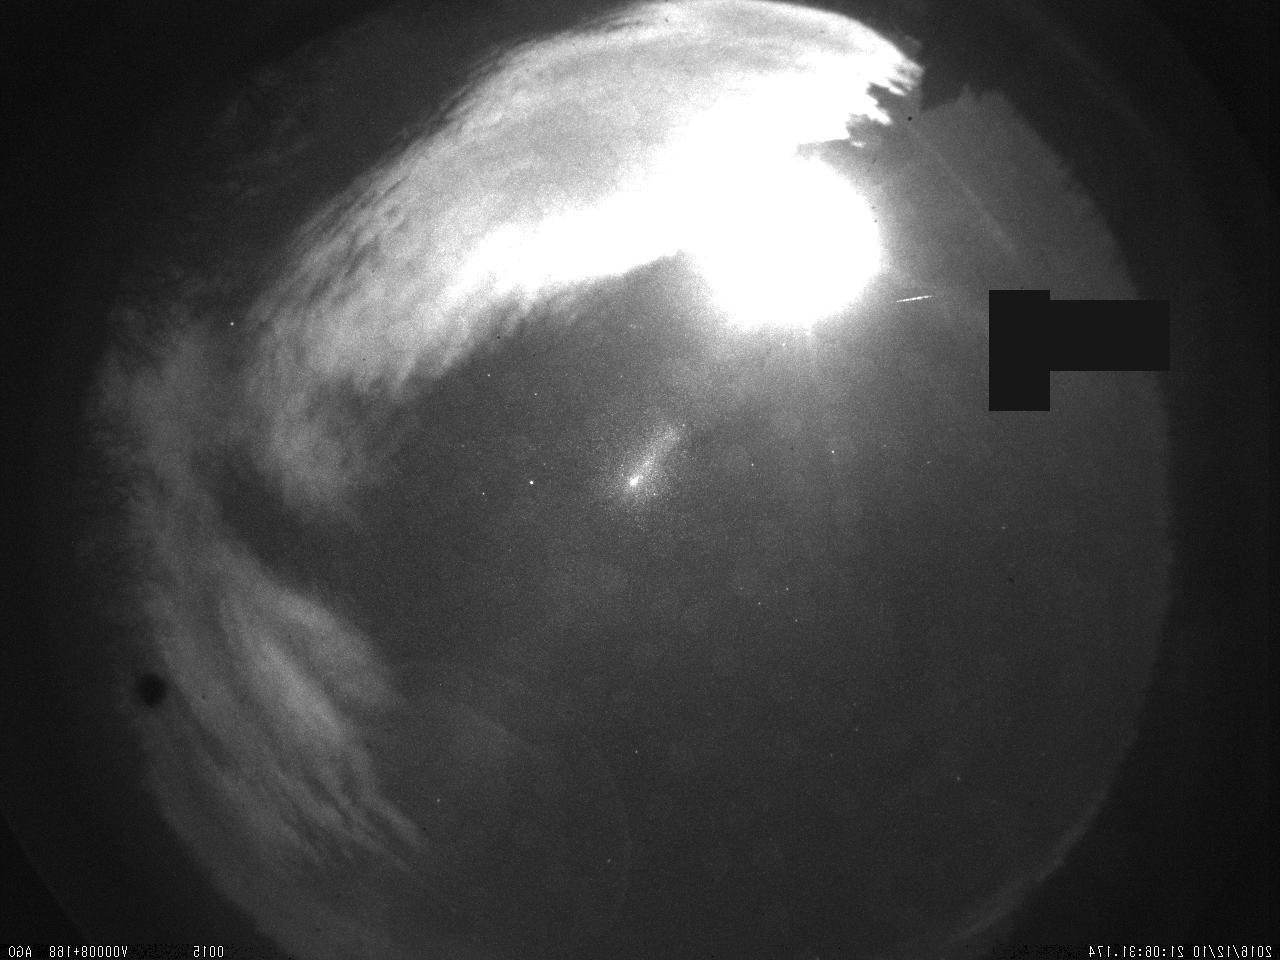meteor: (887, 281, 941, 321)
